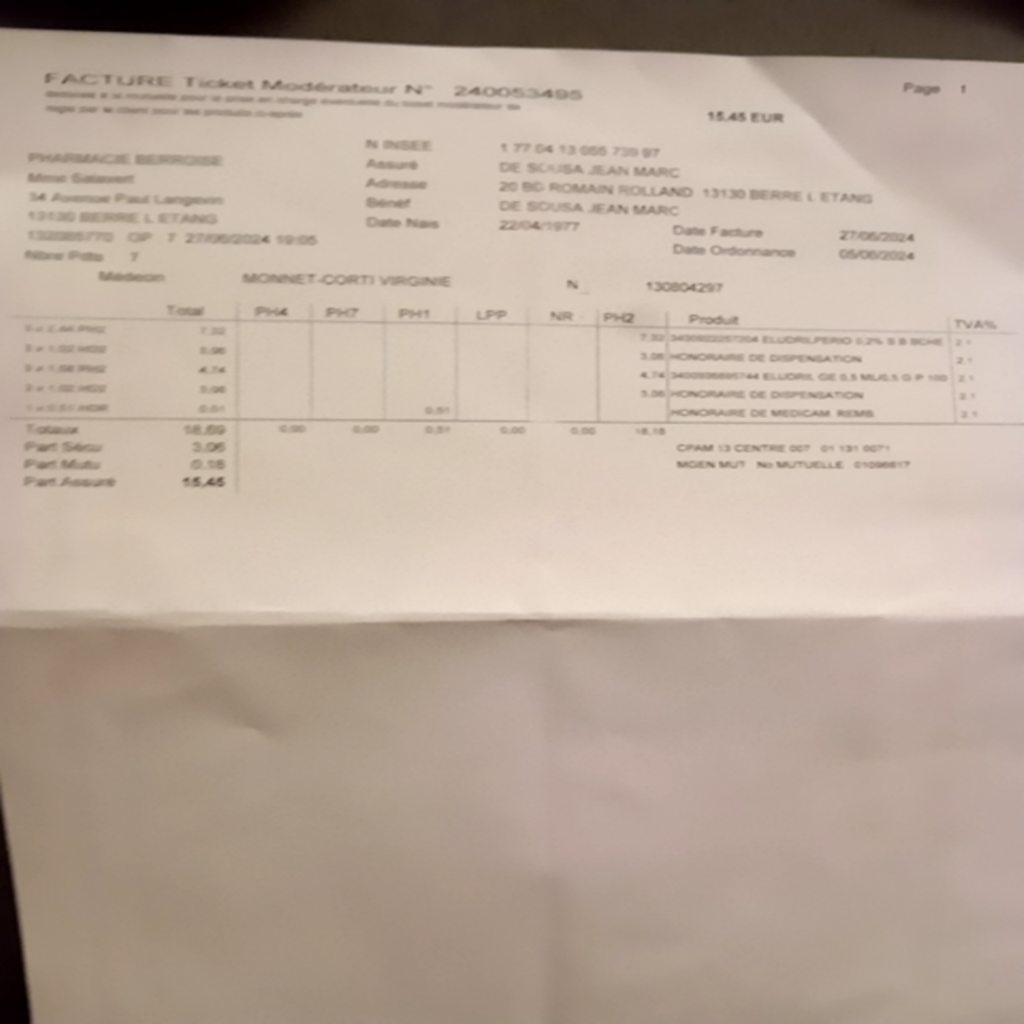recipt: (2, 29, 1022, 621)
